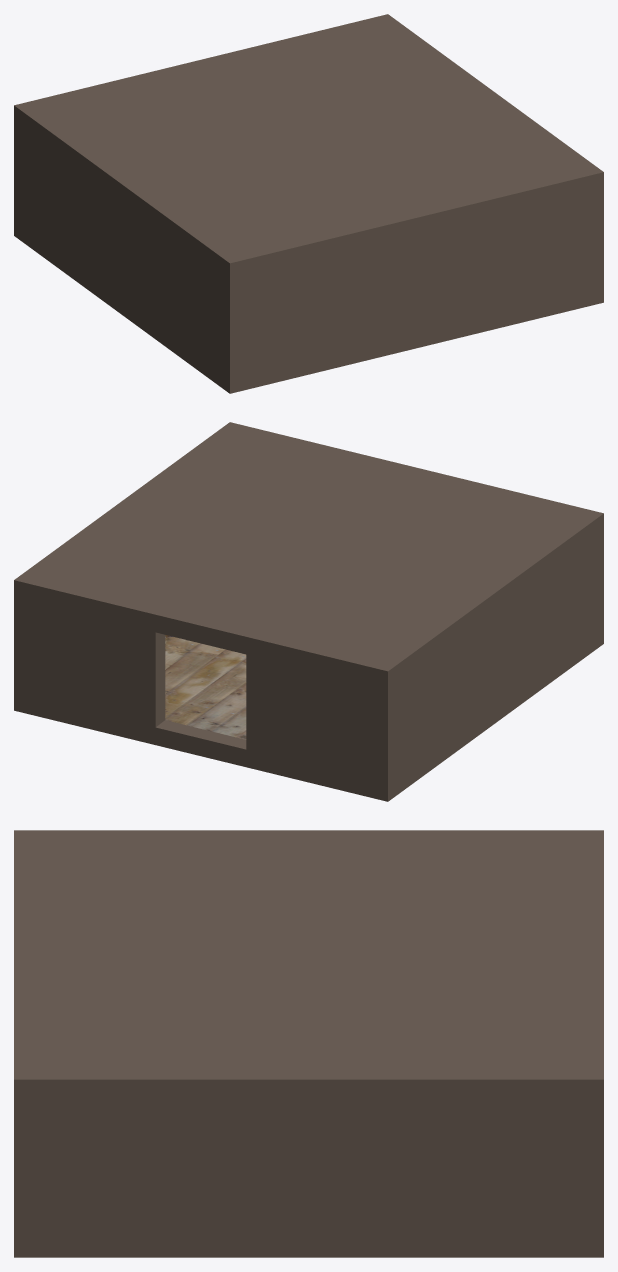
Rendered from room3-voller-raum.dae.
The picture shows the model from 3 angles, top to bottom: view 1: azimuth 30°, elevation 25°; view 2: azimuth 150°, elevation 25°; view 3: azimuth 270°, elevation 25°; orthographic projection. The views are drawn at different scales.
Visible parts, largest first — view 1: Außen; view 2: Außen; view 3: Außen.
Boxes of the visible parts, x1,y1,x2,y2 form: Außen: [14, 14, 603, 393]; Außen: [14, 422, 603, 801]; Außen: [14, 830, 603, 1257].
Size of the model in its own units: 21 by 21 by 7.
Materials: 1 (1 with a texture image).
